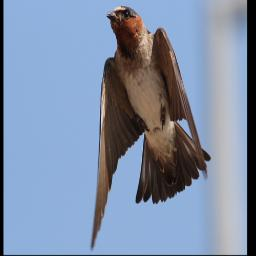Swallow: (90, 5, 210, 252)
